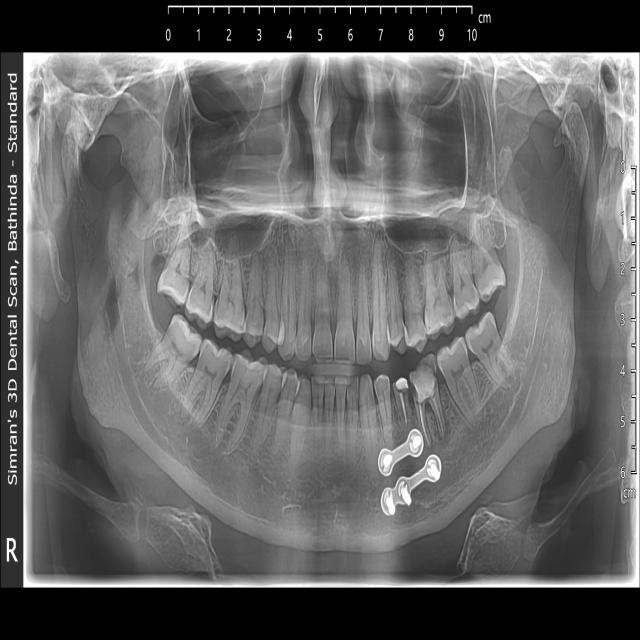Caries: (185, 286, 213, 331)
Periapical lesion: (422, 416, 450, 448)
Root Canal Treatment: (411, 359, 445, 451), (393, 382, 412, 435)
